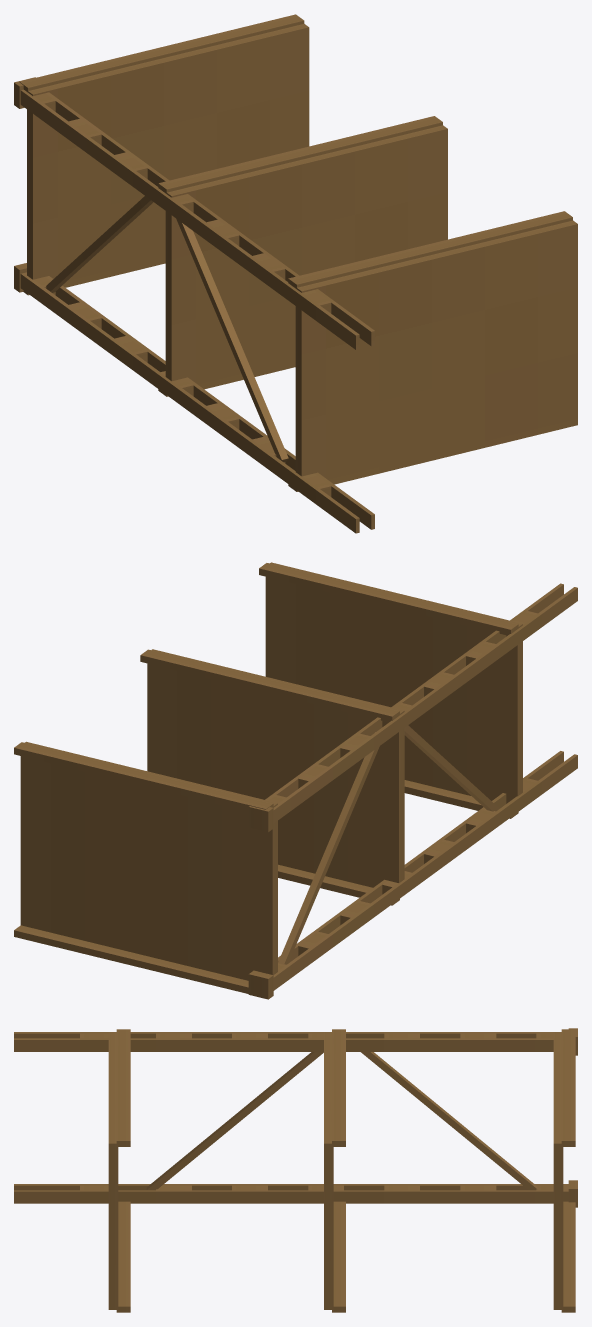
Rendered from rack_left_empty.obj.
3 renders of one model, top to bottom at view 1: azimuth 30°, elevation 25°; view 2: azimuth 150°, elevation 25°; view 3: azimuth 270°, elevation 25°, orthographic. The views are drawn at different scales.
Parts seen in each view (by area): view 1: rack_left_empty; view 2: rack_left_empty; view 3: rack_left_empty.
Boxes of the visible parts, left/top/right/bottom form: rack_left_empty: left=14, top=14, right=577, bottom=533; rack_left_empty: left=14, top=562, right=577, bottom=999; rack_left_empty: left=14, top=1028, right=577, bottom=1312.
Bounding box in the file's own units: 0.934 × 0.66 × 1.97.
Materials: 1 (1 with a texture image).
